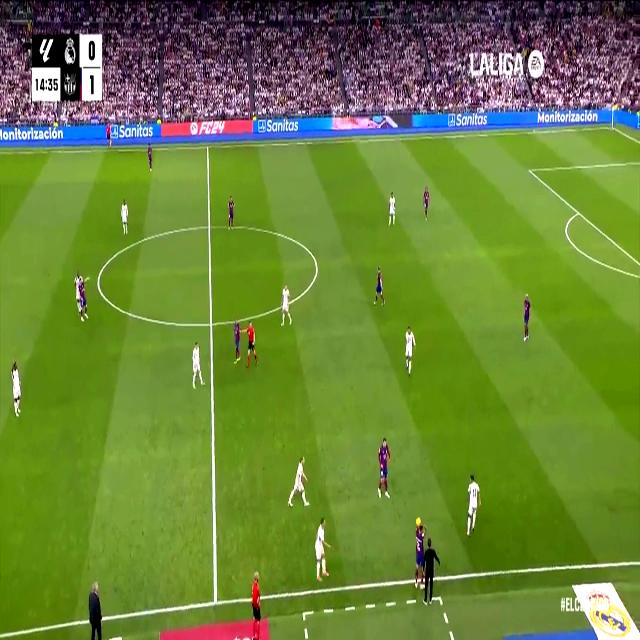bigarea_top_inner: (526, 163, 533, 177)
corner: (607, 121, 616, 131)
halfcircle_bottom: (206, 309, 217, 338)
halfcircle_top: (203, 215, 214, 237)
midline_bottom_intersection: (208, 584, 223, 616)
midline_top_intersection: (205, 140, 211, 154)
top_arc_area_intersection: (574, 204, 582, 218)
